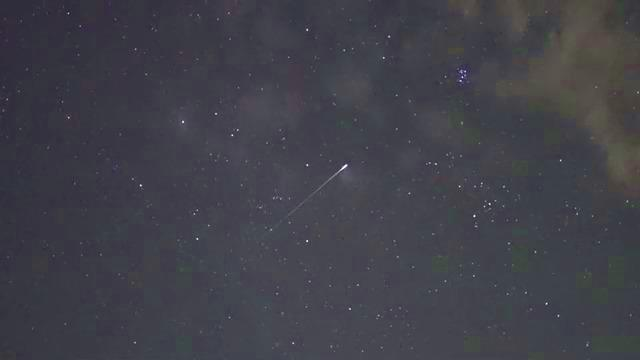meteorite: (259, 155, 362, 235)
